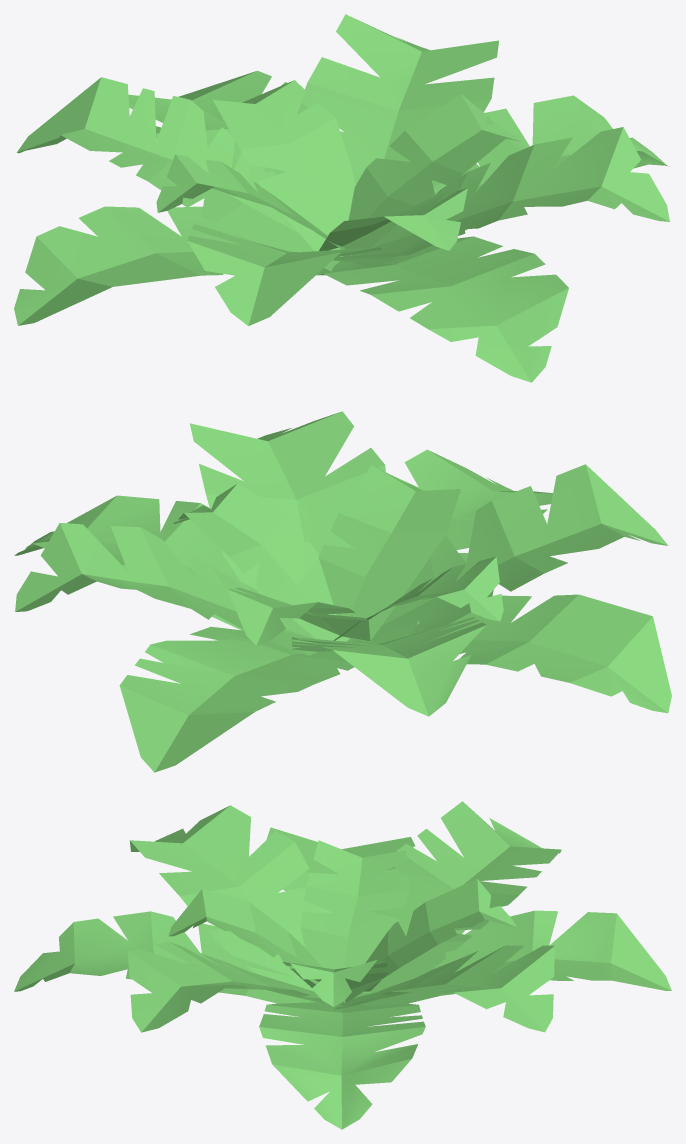
Rendered from Arbusto1.fbx.
The picture shows the model from 3 angles, top to bottom: view 1: azimuth 30°, elevation 25°; view 2: azimuth 150°, elevation 25°; view 3: azimuth 270°, elevation 25°; orthographic projection. The views are drawn at different scales.
Visible parts, largest first — view 1: Arbusto1; view 2: Arbusto1; view 3: Arbusto1.
Boxes of the visible parts, x1,y1,x2,y2 form: Arbusto1: (14,14,669,382); Arbusto1: (14,411,671,772); Arbusto1: (14,801,671,1129).
Bounding box in the file's own units: 255 × 47.03 × 255.
